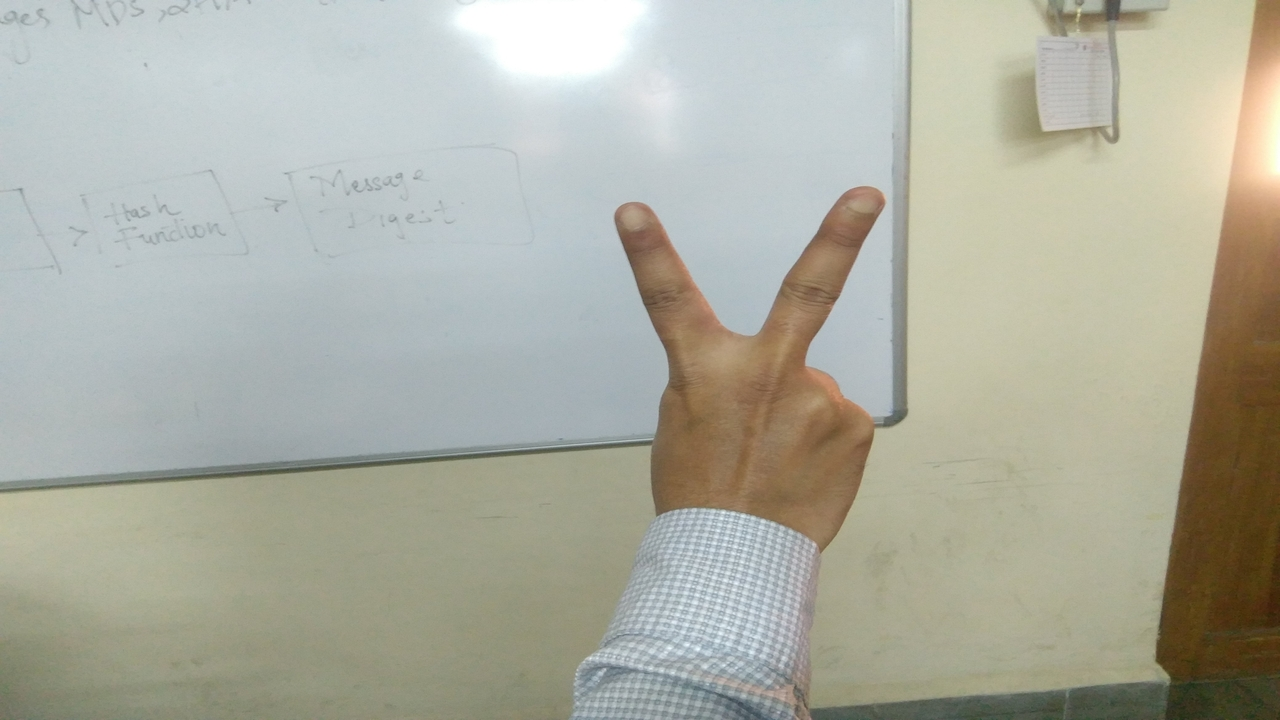fingertip: (824, 174, 896, 230), (606, 190, 674, 246)
